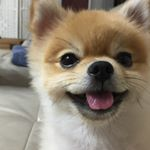puppy: (23, 1, 150, 135)
